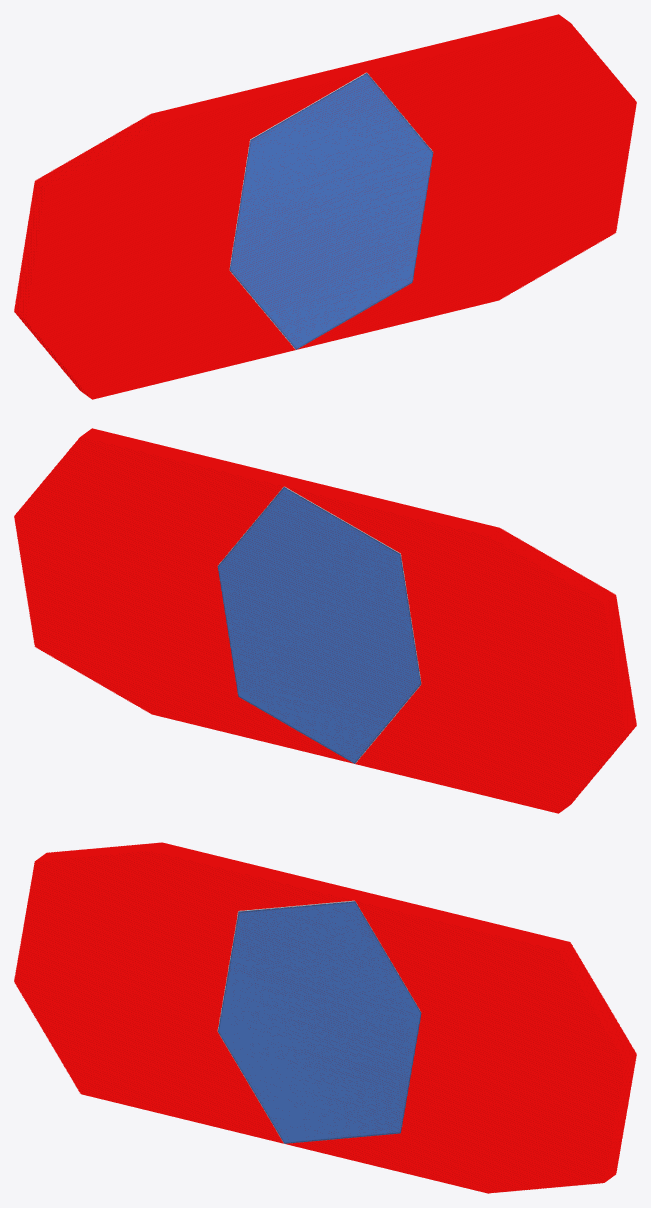
File: simple_model11.glb
3 views of the same model, one above another, from view 1: azimuth 30°, elevation 25°; view 2: azimuth 150°, elevation 25°; view 3: azimuth 330°, elevation 25° (orthographic).
Size of the model in its own units: 3 by 1.22 by 0.1.
1005 materials, 2 textured.
